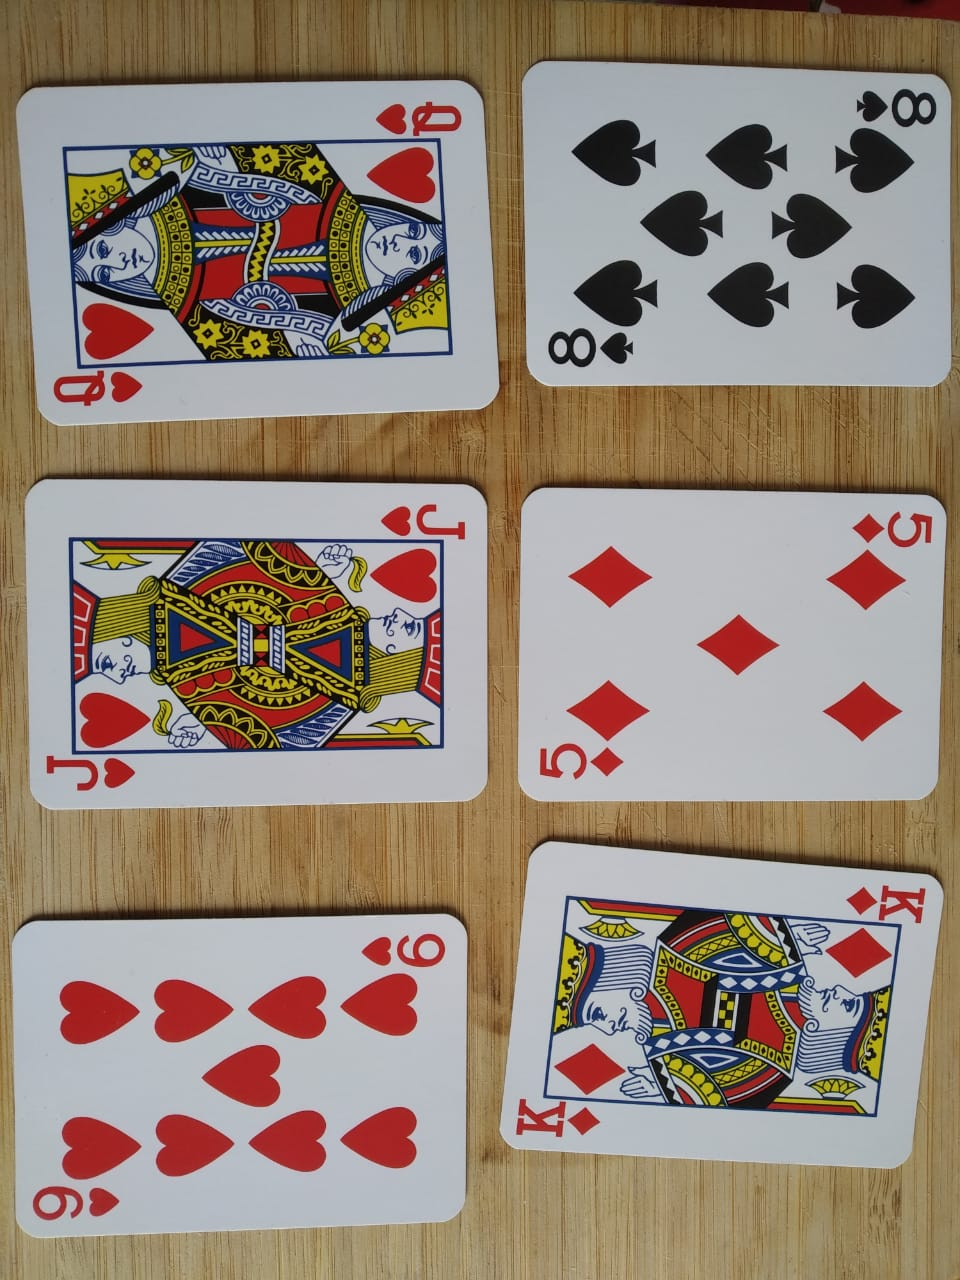eight: (511, 43, 960, 401)
five: (511, 468, 960, 818)
jack: (9, 461, 507, 831)
king: (485, 827, 960, 1187)
nine: (11, 886, 489, 1255)
queen: (3, 57, 507, 429)
